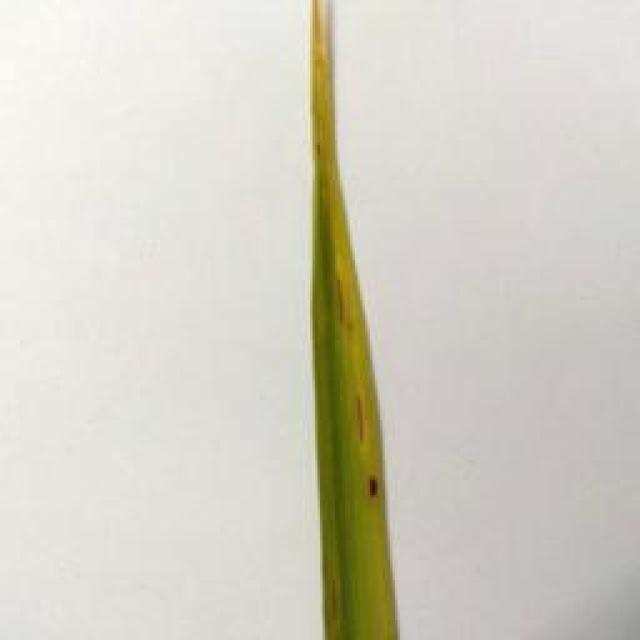Bacterial_Blight: (270, 6, 430, 480)
Brown_Spot: (321, 249, 364, 339), (354, 456, 396, 520), (341, 408, 375, 443)
